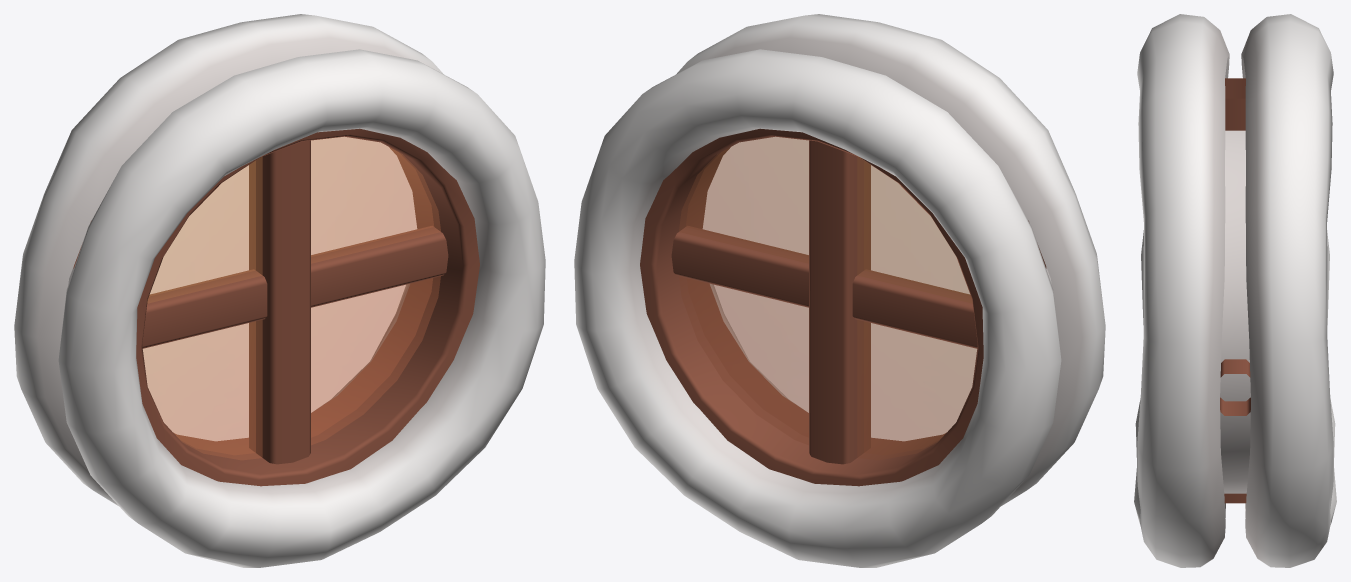
File: janela_redonda_natal.glb
The picture shows the model from 3 angles, left to right: view 1: azimuth 30°, elevation 25°; view 2: azimuth 150°, elevation 25°; view 3: azimuth 270°, elevation 25°; orthographic projection.
Parts seen in each view (by area): view 1: janela_redonda_natal; view 2: janela_redonda_natal; view 3: janela_redonda_natal.
Part boxes in pixels (left/top/right/bottom): janela_redonda_natal: left=14, top=14, right=545, bottom=567; janela_redonda_natal: left=574, top=14, right=1105, bottom=567; janela_redonda_natal: left=1134, top=14, right=1336, bottom=567.
Bounding box in the file's own units: 0.9 × 0.9 × 0.3345.
Materials: 3 (3 with a texture image).
